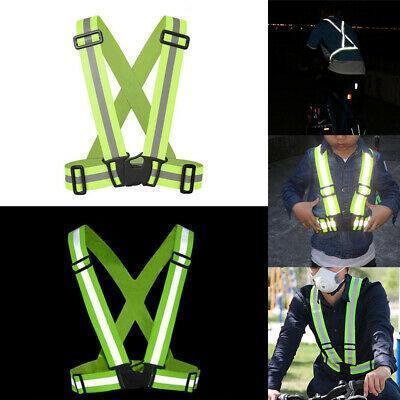Vest: (302, 280, 391, 377), (309, 144, 390, 239)
